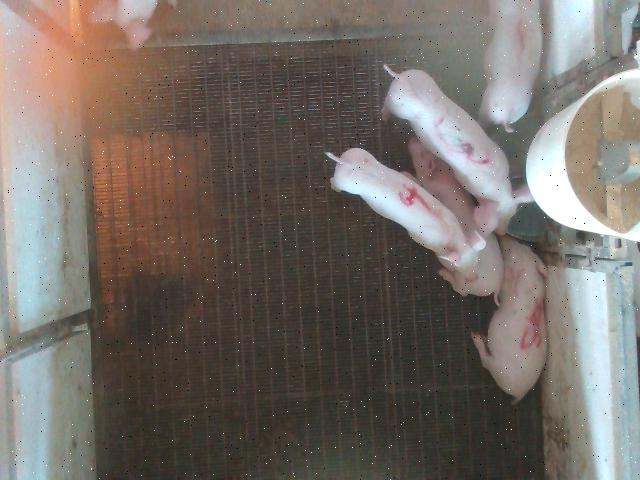pig-1: (479, 2, 540, 132)
pig-3: (384, 67, 532, 238)
pig-4: (328, 149, 485, 278)
pig-5: (472, 237, 548, 402)
